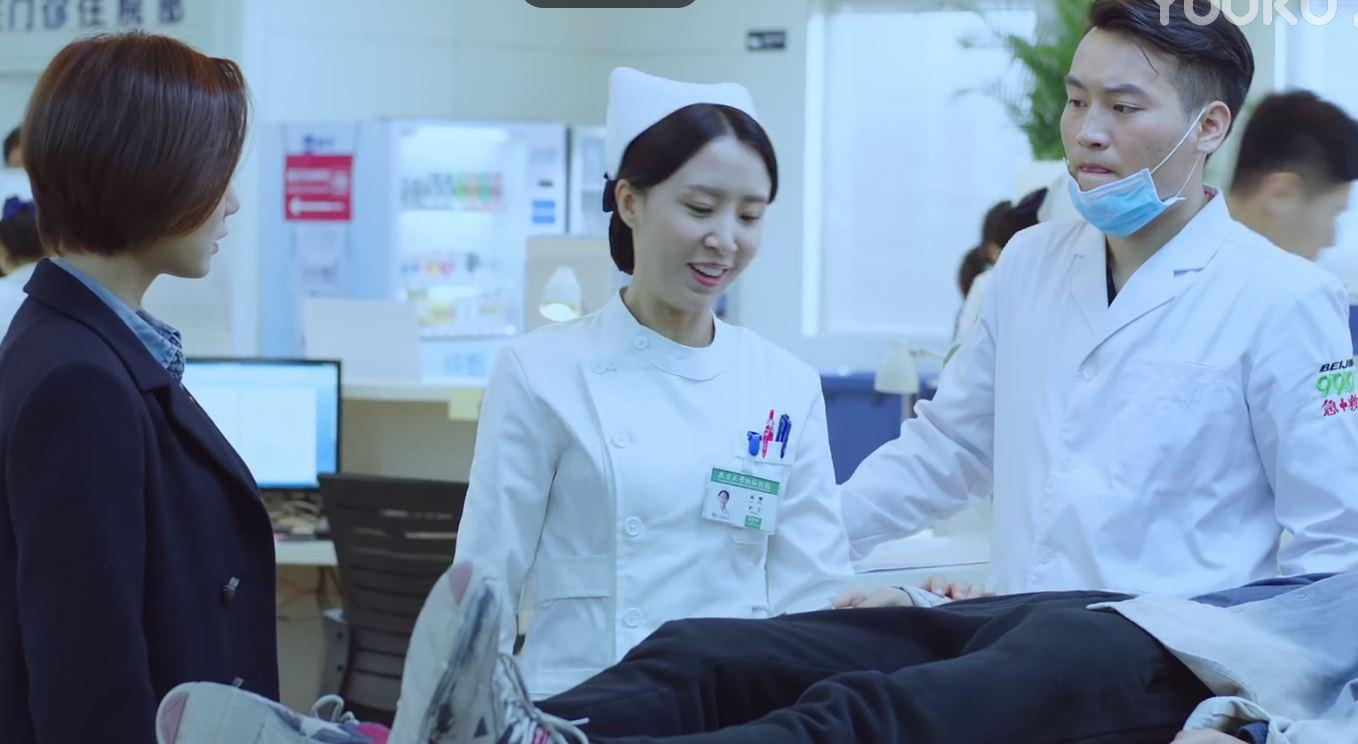NONE: (658, 171, 775, 319), (172, 138, 245, 282)
WRONG: (1061, 47, 1174, 226)
